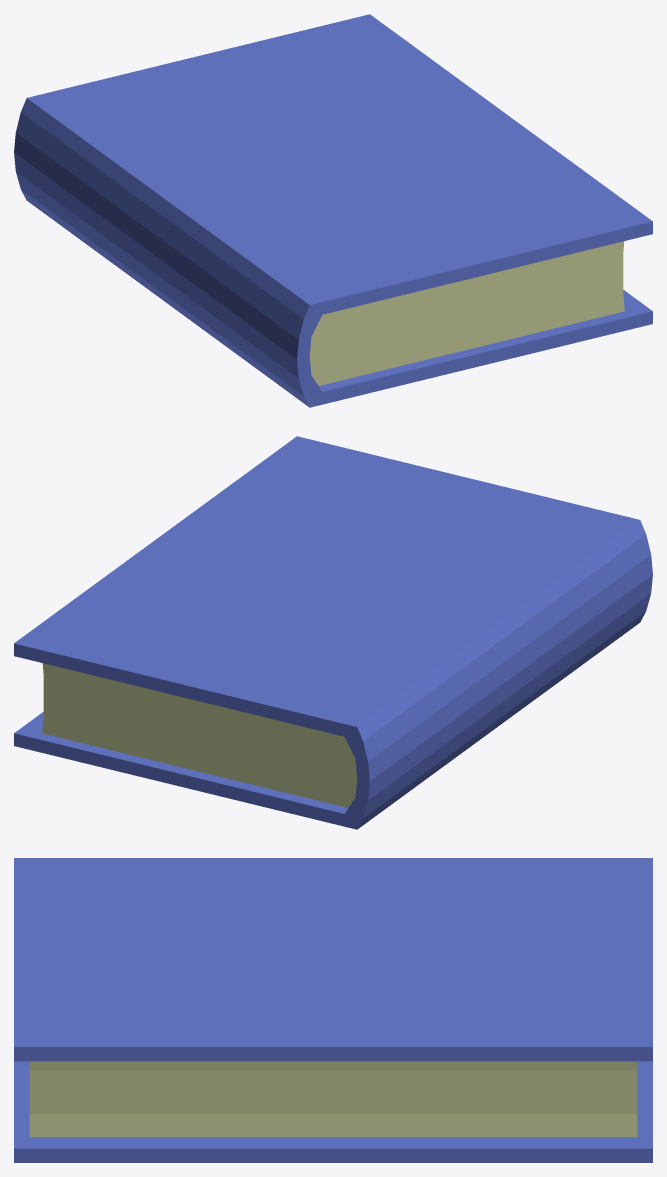
File: item16_book.fbx
3 views of the same model, one above another, from view 1: azimuth 30°, elevation 25°; view 2: azimuth 150°, elevation 25°; view 3: azimuth 270°, elevation 25° (orthographic). The views are drawn at different scales.
Parts seen in each view (by area): view 1: Cube; view 2: Cube; view 3: Cube.
Boxes of the visible parts, x1,y1,x2,y2 form: Cube: (14,14,652,407); Cube: (14,436,652,829); Cube: (14,858,652,1162).
Size of the model in its own units: 21.78 by 6 by 30.
